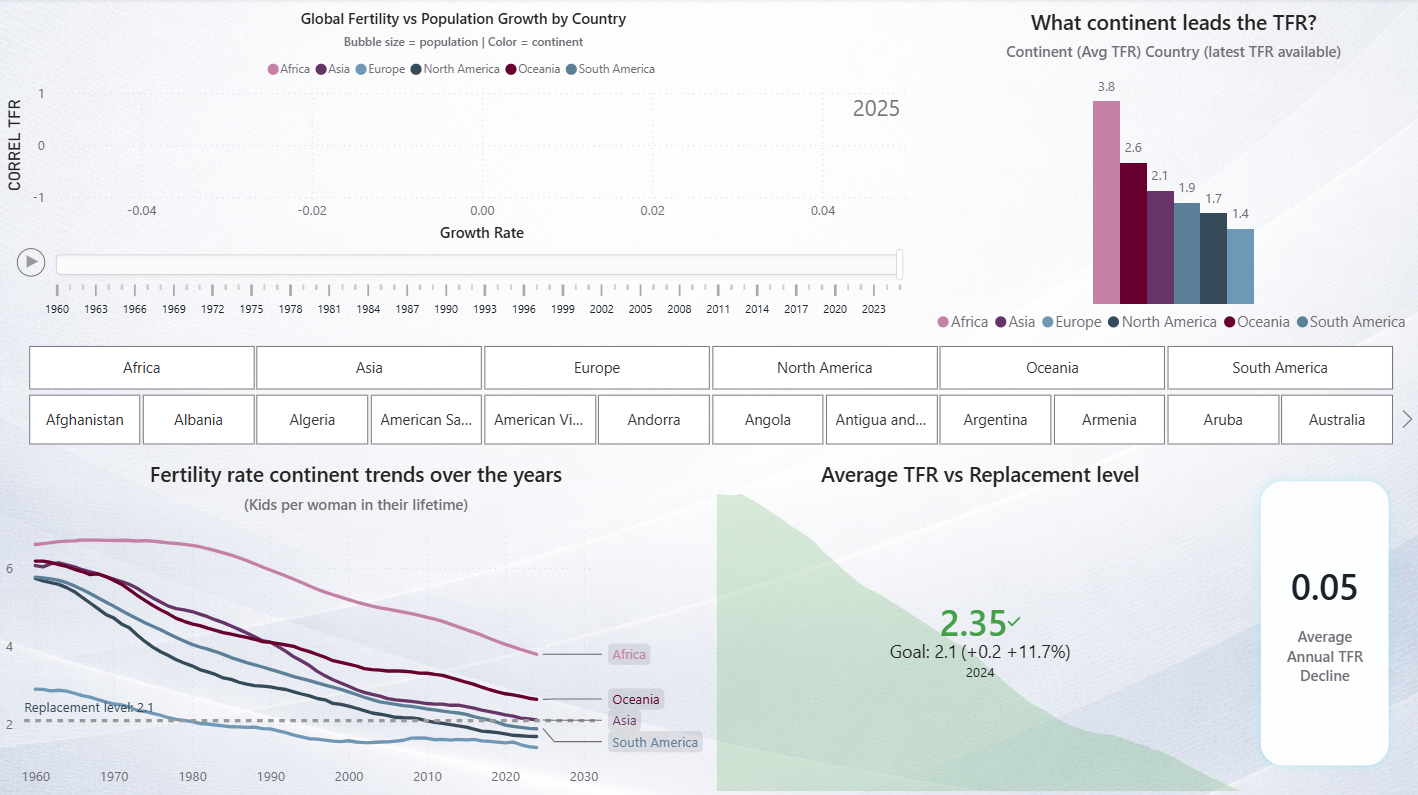

What the dashboard file says about the page in this screenshot:
{"tool":"powerbi","page":{"name":"Fertility Rate","canvas":[1280,720],"ordinal":2},"visuals":[{"type":"lineChart","title":"Fertility rate continent trends over the years","fields":{"Category":["world_population dim_year.year_record"],"Y":["Avg(world_population fact_fertility_rate.tfr)"],"Series":["world_population dim_countries.continent"]},"box":[0,408,641.9,312.2],"z":0},{"type":"kpi","title":"Average TFR vs Replacement level","fields":{"TrendLine":["world_population dim_year.year_record"],"Goal":["_Measures_.Replacement level"],"Indicator":["Avg(world_population fact_fertility_rate.tfr)"]},"box":[641.9,408,485.1,312.2],"z":1000},{"type":"slicer","fields":{"Values":["world_population dim_countries.continent"]},"box":[0,306,1280,53.5],"z":2000},{"type":"slicer","fields":{"Values":["world_population dim_countries.country_name"]},"box":[0,350,1280,58.8],"z":3000},{"type":"scatterChart","title":"Global Fertility vs Population Growth by Country","fields":{"Category":["world_population dim_countries.country_name"],"Series":["world_population dim_countries.continent"],"Size":["Sum(world_population fact_population.population_count)"],"Play":["world_population dim_year.year_record"],"X":["_Measures_.CORREL POP GROWTH"],"Y":["_Measures_.CORREL TFR"]},"box":[0,0,835.7,304.3],"z":4000},{"type":"clusteredColumnChart","title":"What continent leads the TFR?","fields":{"Series":["world_population dim_countries.continent"],"Y":["_Measures_.TFR Avg Latest Year By Continent"]},"box":[835.9,0,444.1,311],"z":5000},{"type":"cardVisual","title":"knlkmn","fields":{"Data":["_Measures_.TFR Decline"]},"box":[1109.1,408,171.2,312.2],"z":6000}]}

Visuals, with their boxes in screenshot pixels (x1, y1, x2, y2), scaled from the page's 1280x720 canvas onto the 1418x795 screenshot:
"Fertility rate continent trends over the years" lineChart: crop(0, 451, 711, 794)
"Average TFR vs Replacement level" kpi: crop(711, 451, 1249, 794)
slicer - world_population dim_countries.continent: crop(0, 338, 1417, 397)
slicer - world_population dim_countries.country_name: crop(0, 386, 1417, 451)
"Global Fertility vs Population Growth by Country" scatterChart: crop(0, 0, 926, 336)
"What continent leads the TFR?" clusteredColumnChart: crop(926, 0, 1417, 343)
"knlkmn" cardVisual: crop(1229, 451, 1417, 794)
